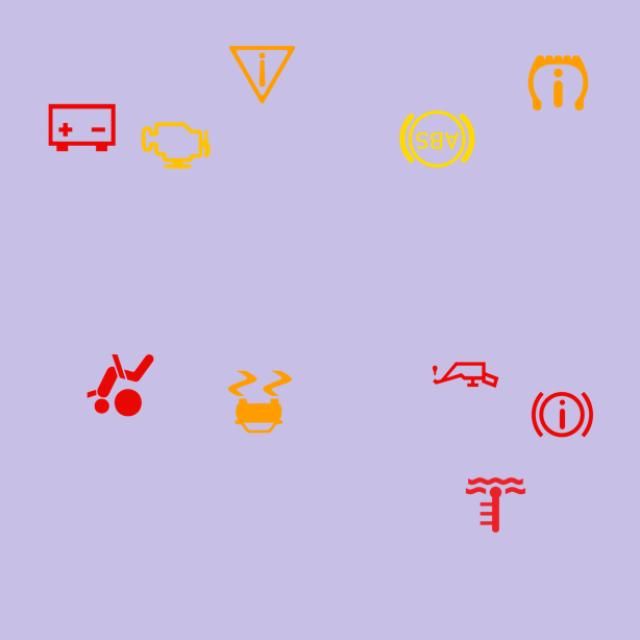Anti Lock Braking System: (396, 98, 479, 180)
Braking System Issue: (521, 373, 604, 456)
Charging System Issue: (41, 86, 123, 169)
Check Engine: (134, 104, 217, 187)
Electronic Stability Problem -ESP-: (219, 361, 301, 443)
Engine Overheating Warning Light: (454, 464, 537, 546)
Low Engine Oil Warning Light: (424, 333, 507, 416)
Low Tire Pressure Warning Light: (517, 42, 599, 124)
Master warning light: (221, 33, 303, 116)
SRS-Airbag: (79, 344, 162, 426)
